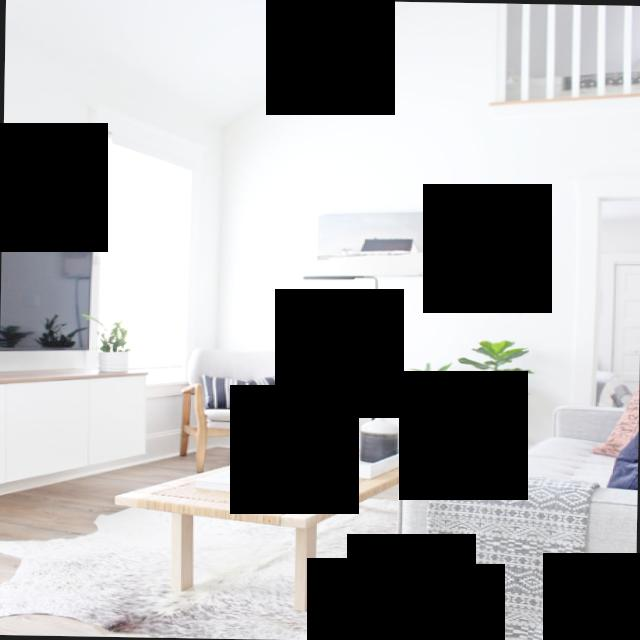modern desk: (98, 412, 480, 617)
modern shelf: (0, 349, 183, 496)
